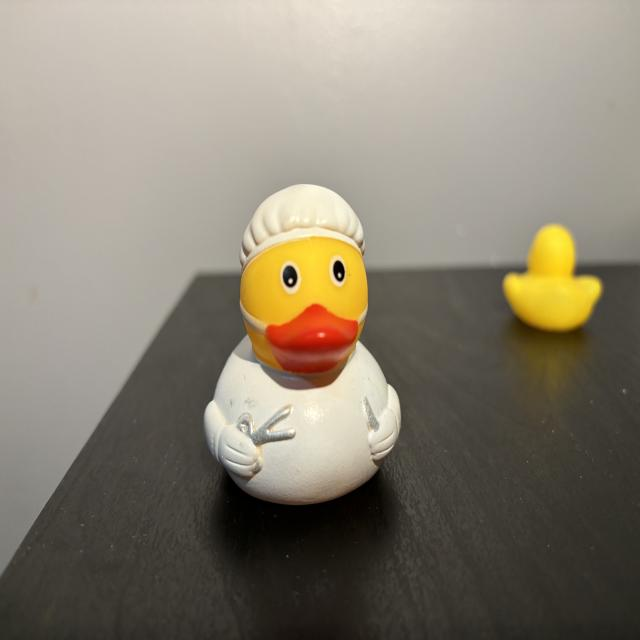duck_regular: (504, 225, 603, 331)
duck_specialty: (205, 185, 401, 505)
